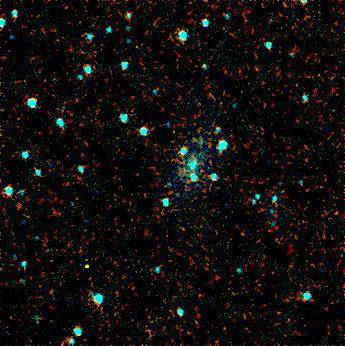star: (72, 248, 102, 278)
